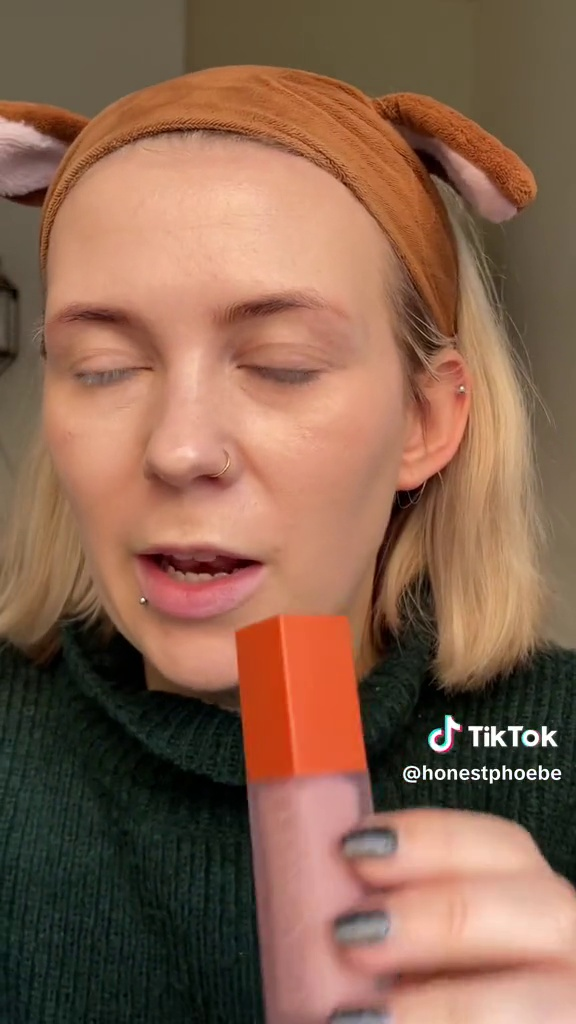train' :'yolo_data/train/images',: (230, 617, 398, 1023)
